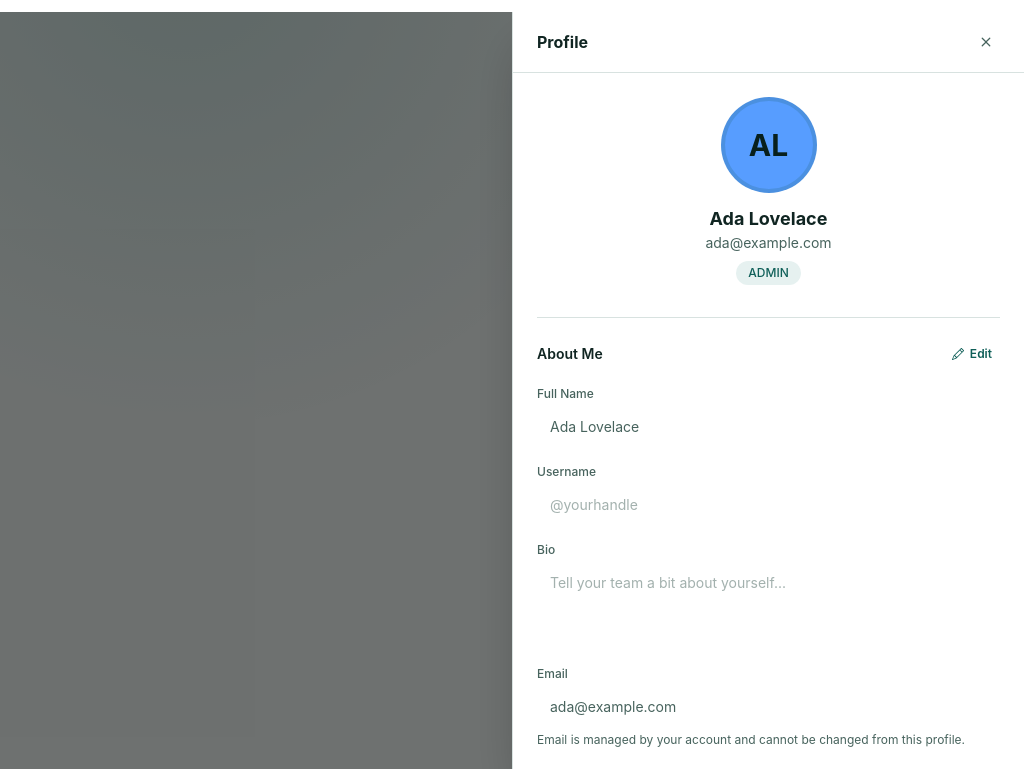
Test: profile form accessibility › announces a validation error and points the field at its message
Click the button "Edit": click(972, 354) [944,342,1000,366]
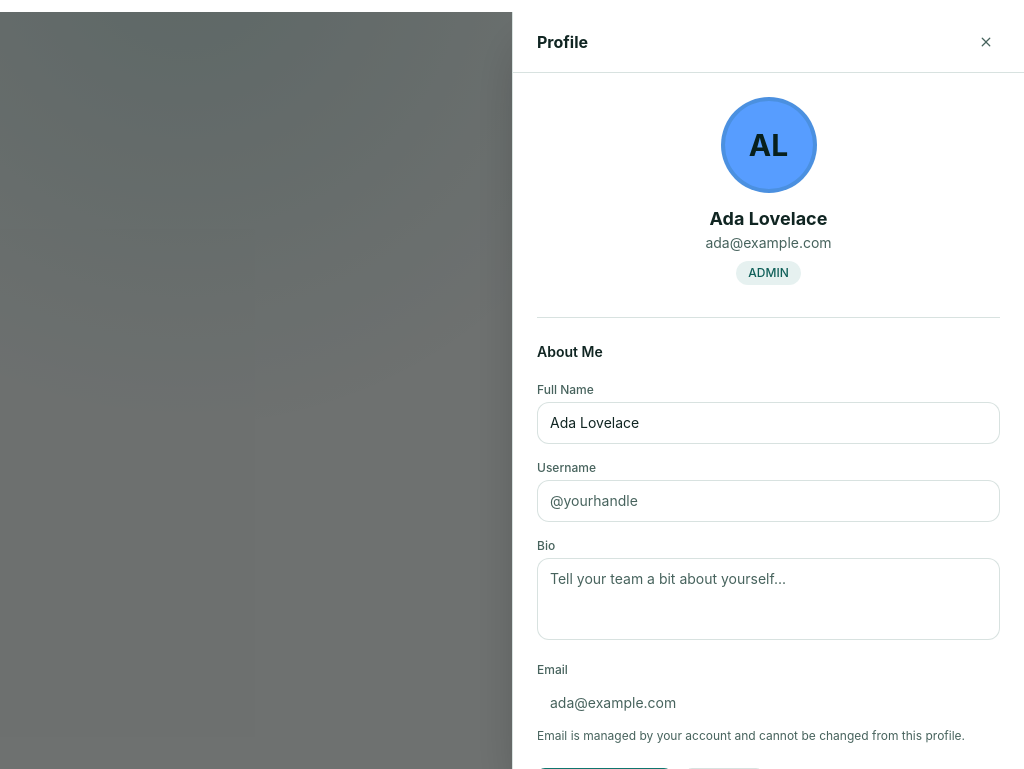
Clear the field labelled "Full Name": (768, 423) [537,402,1000,444]
(page scrolled)
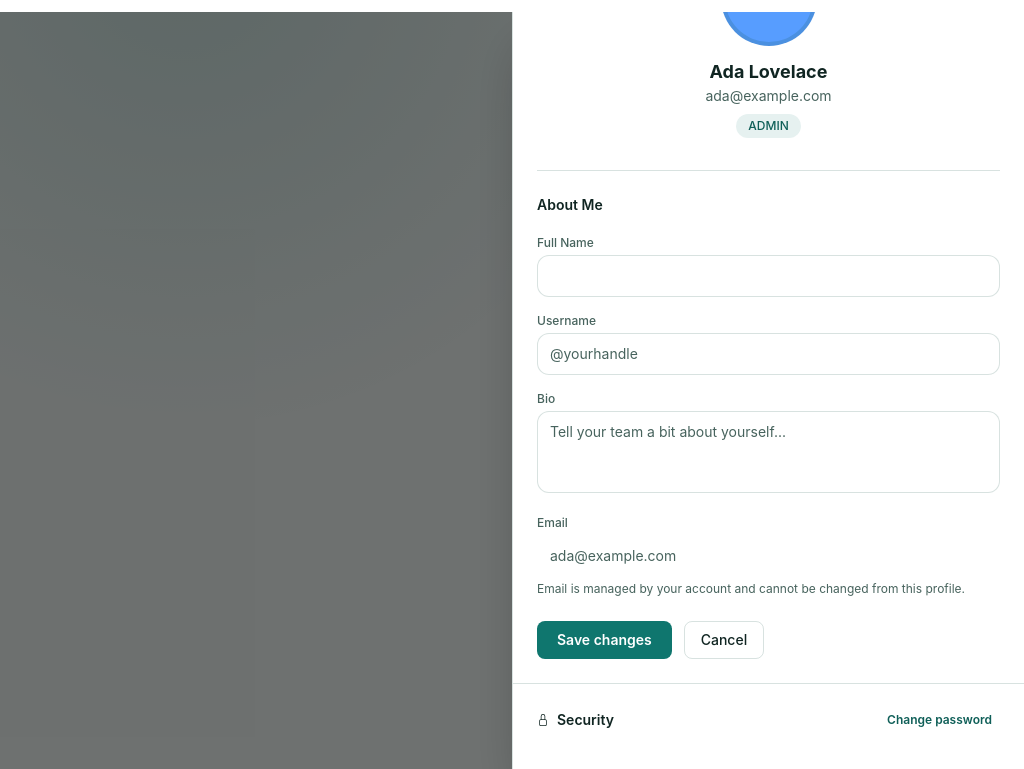
Click the button "Save changes": click(604, 640) [537,621,672,659]
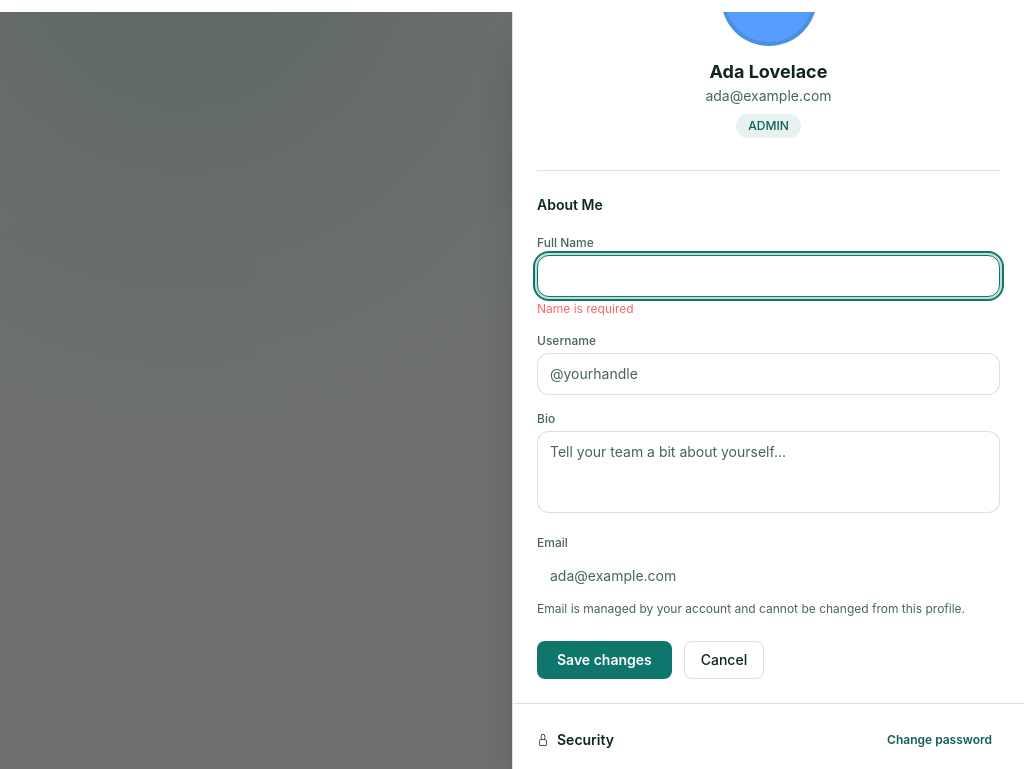
Now the message reads "Name is required", box [537,301,634,316]
